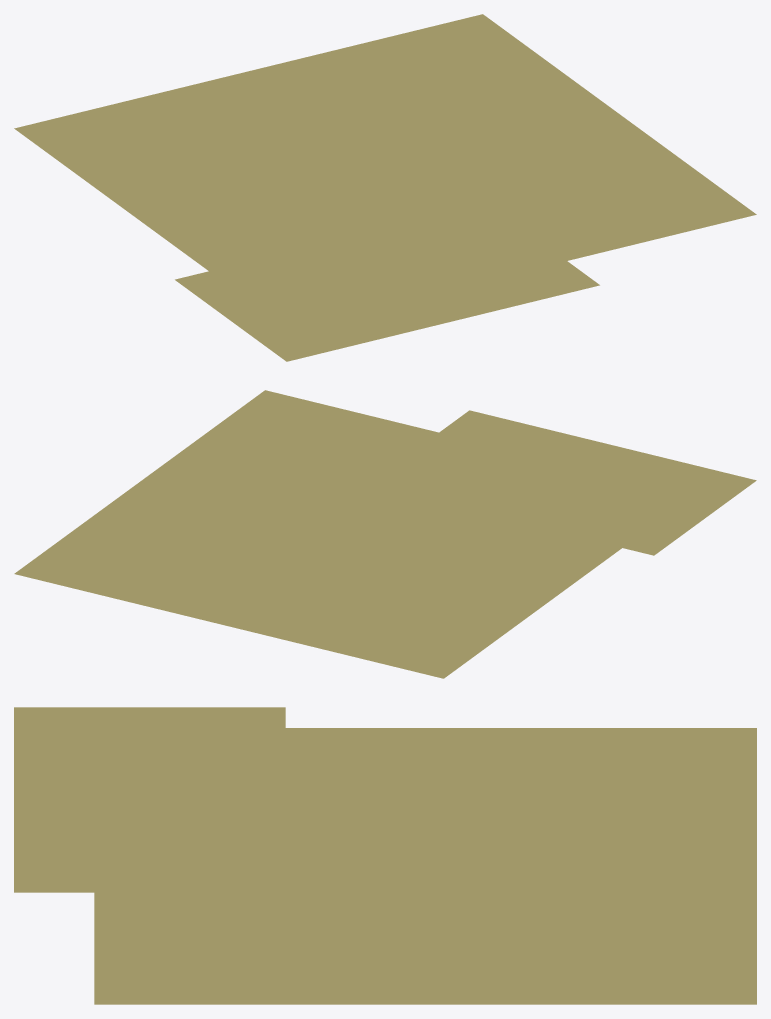
Rendered from NewtonFloor1.0.fbx.
3 views of the same model, one above another, from view 1: azimuth 30°, elevation 25°; view 2: azimuth 150°, elevation 25°; view 3: azimuth 270°, elevation 25° (orthographic). The views are drawn at different scales.
Parts seen in each view (by area): view 1: Plane.010; view 2: Plane.010; view 3: Plane.010.
Part boxes in pixels (bbox=[...]): Plane.010: bbox=[14, 14, 756, 361]; Plane.010: bbox=[14, 390, 756, 678]; Plane.010: bbox=[14, 707, 756, 1004].
Size of the model in its own units: 601 by 0 by 635.
